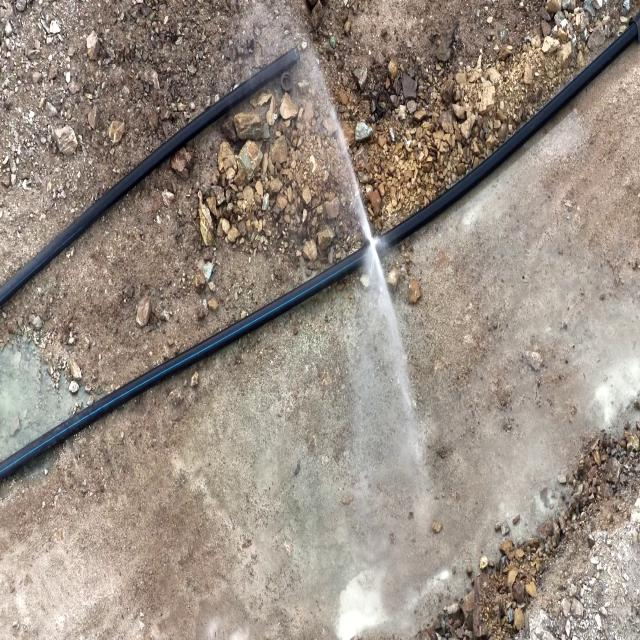leak: (308, 46, 418, 410)
